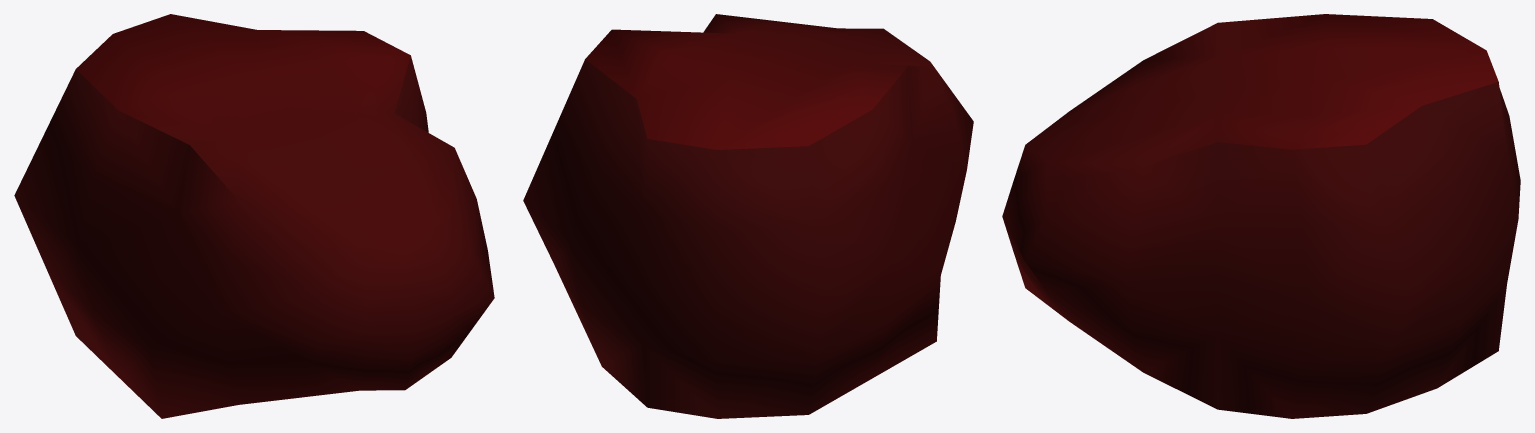
File: geology-pebbles-asphalt_v7.fbx
The picture shows the model from 3 angles, left to right: view 1: azimuth 30°, elevation 25°; view 2: azimuth 150°, elevation 25°; view 3: azimuth 270°, elevation 25°; orthographic projection.
Parts seen in each view (by area): view 1: Asphalt_v7; view 2: Asphalt_v7; view 3: Asphalt_v7.
Boxes of the visible parts, <box> form: Asphalt_v7: <box>14,14,494,418</box>; Asphalt_v7: <box>523,14,973,418</box>; Asphalt_v7: <box>1002,14,1520,418</box>.
Bounding box in the file's own units: 5.33 × 4.01 × 7.01.
